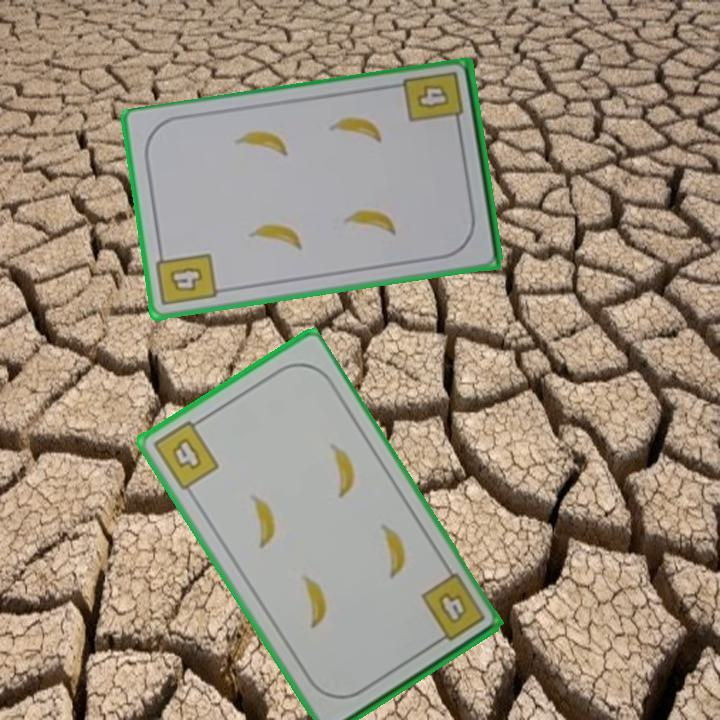4b: (148, 413, 222, 493), (416, 569, 488, 648), (400, 68, 467, 134), (153, 246, 220, 309)
